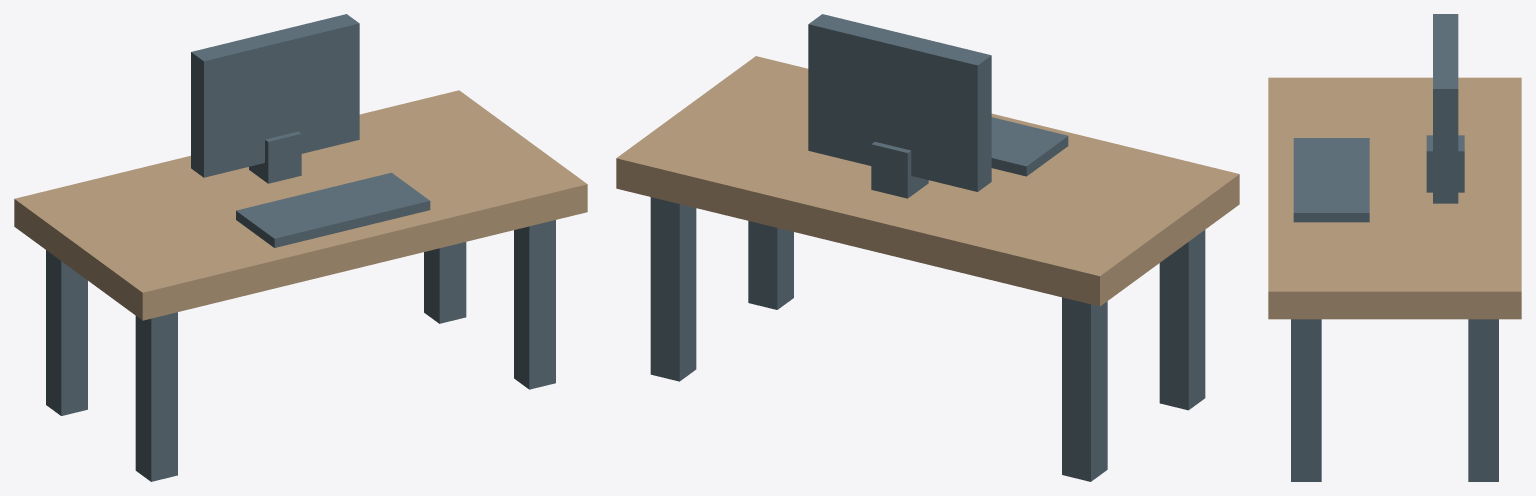
File: voxel-city-districts-office-desk-3ef25a62__24888.glb
The picture shows the model from 3 angles, left to right: view 1: azimuth 30°, elevation 25°; view 2: azimuth 150°, elevation 25°; view 3: azimuth 270°, elevation 25°; orthographic projection. The views are drawn at different scales.
Parts seen in each view (by area): view 1: office-desk-wood, office-desk-dark; view 2: office-desk-wood, office-desk-dark; view 3: office-desk-wood, office-desk-dark.
Boxes of the visible parts, <box> form: office-desk-wood: <box>14,90,587,320</box>; office-desk-dark: <box>46,14,555,481</box>; office-desk-wood: <box>616,56,1239,306</box>; office-desk-dark: <box>650,14,1205,481</box>; office-desk-wood: <box>1268,77,1521,319</box>; office-desk-dark: <box>1291,14,1498,481</box>.
Size of the model in its own units: 2 by 1.45 by 1.
